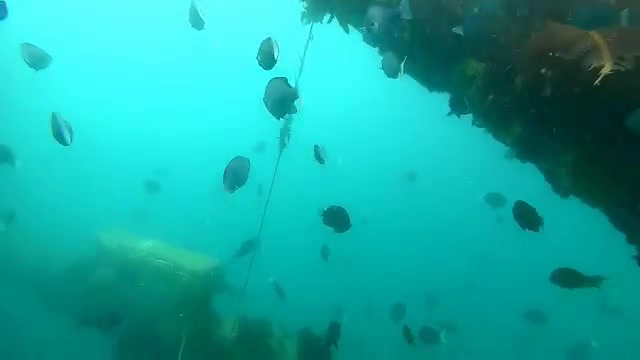smallfish: (248, 75, 315, 142), (496, 190, 556, 249), (544, 260, 613, 299), (311, 200, 361, 239), (217, 153, 259, 196), (17, 39, 56, 73), (48, 111, 75, 151)
